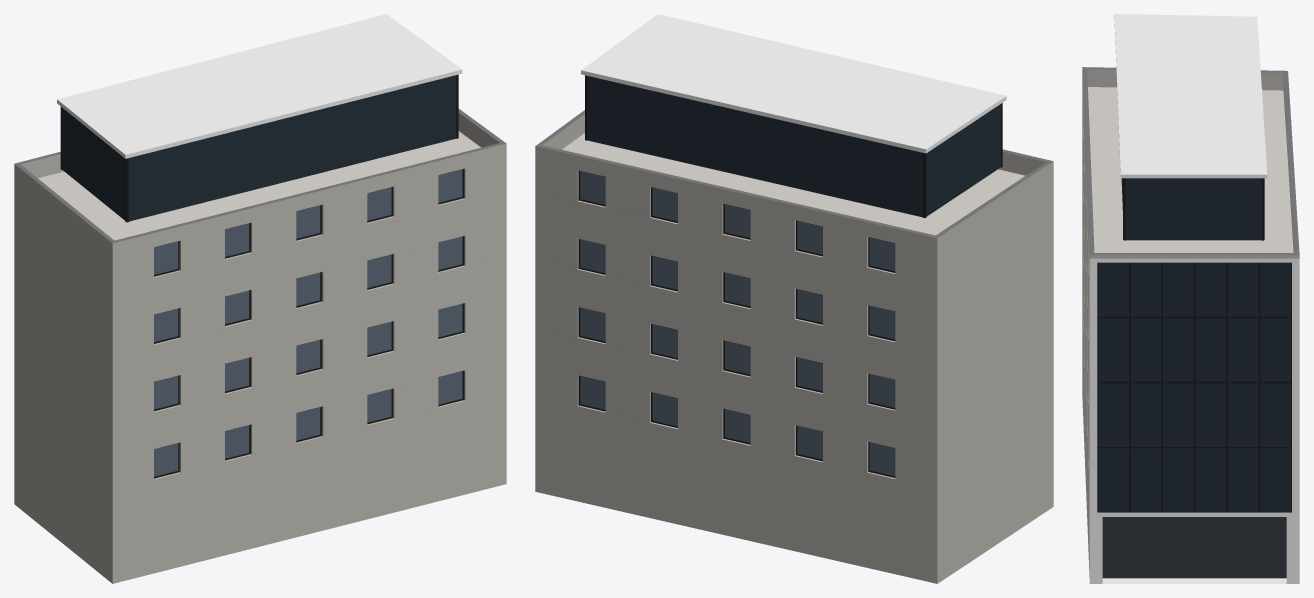
File: glass529.glb
3 views of the same model, side by side, from view 1: azimuth 30°, elevation 25°; view 2: azimuth 150°, elevation 25°; view 3: azimuth 270°, elevation 25° (orthographic). The views are drawn at different scales.
Visible parts, largest first — view 1: glass529; view 2: glass529; view 3: glass529.
Part boxes in pixels (x1=…): glass529: x1=14, y1=14, x2=506, y2=583; glass529: x1=535, y1=14, x2=1053, y2=583; glass529: x1=1082, y1=14, x2=1299, y2=583.
Bounding box in the file's own units: 20.43 × 20.1 × 9.99.
